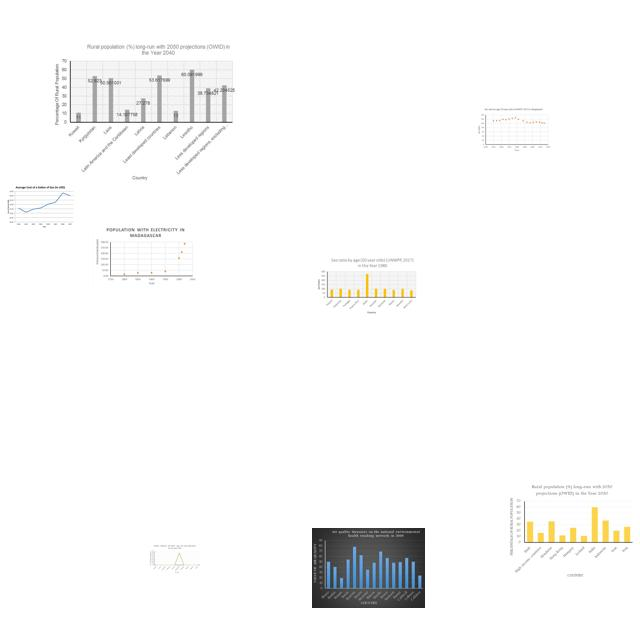Graph: (51, 41, 237, 181), (507, 483, 634, 579), (312, 528, 425, 608), (93, 225, 198, 288), (315, 256, 418, 316), (476, 107, 551, 152), (6, 185, 75, 228), (149, 544, 201, 574)
